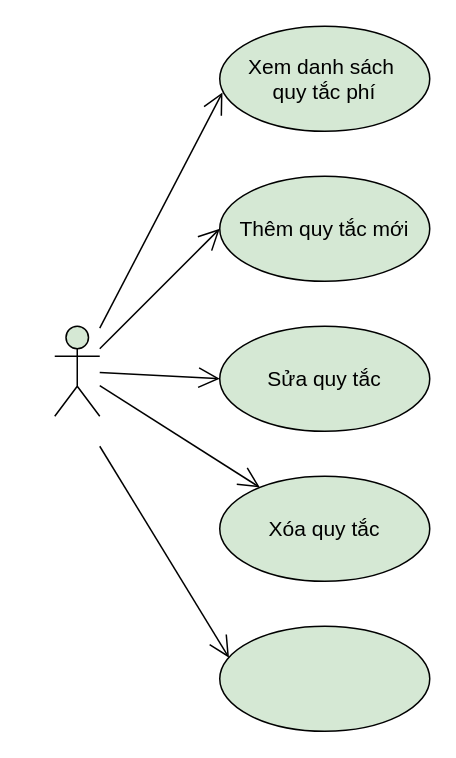
This 456x758 diagram has some shape labels left out. Each missing label, with the centre of its shape:
"Bật/Tắt quy tắc" belongs at point (324, 678).
"Quản trị viên" belongs at point (76, 370).
